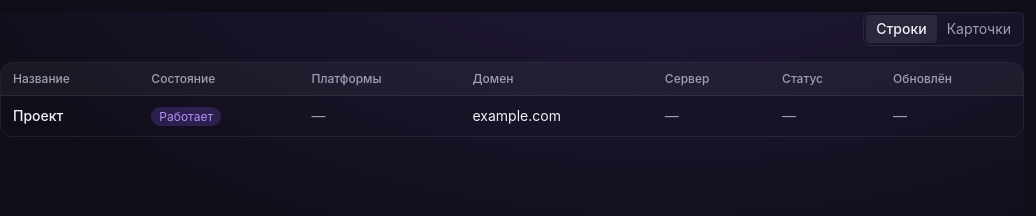
it: ProjectList › переключает на карточки и запоминает выбор
This screenshot has width=1036, height=216.
Click the button "Карточки".
click(979, 29)  # box [937,15,1021,43]
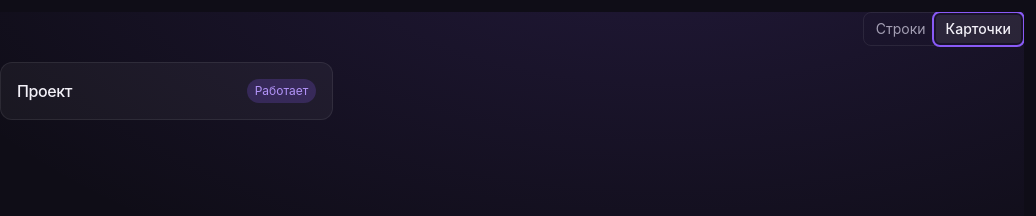
Expected: the column heading "Название" is gone
